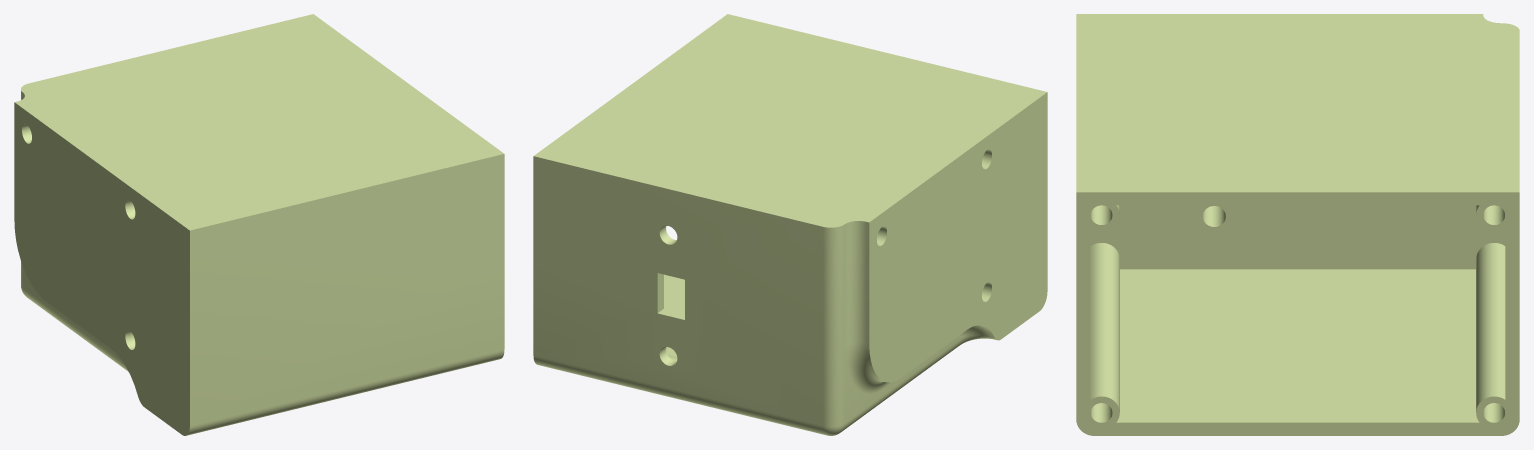
Rendered from uchwyt_lew_ciezarek_mirror.obj.
3 views of the same model, side by side, from view 1: azimuth 30°, elevation 25°; view 2: azimuth 150°, elevation 25°; view 3: azimuth 270°, elevation 25° (orthographic). The views are drawn at different scales.
Visible parts, largest first — view 1: uchwyt_lewy_ciezarek_mirror; view 2: uchwyt_lewy_ciezarek_mirror; view 3: uchwyt_lewy_ciezarek_mirror.
Part boxes in pixels (x1,y1,x2,y2): uchwyt_lewy_ciezarek_mirror: (14, 14, 504, 435); uchwyt_lewy_ciezarek_mirror: (533, 14, 1047, 435); uchwyt_lewy_ciezarek_mirror: (1076, 14, 1519, 435).
Size of the model in its own units: 58 by 37 by 61.
